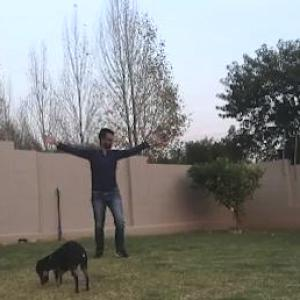takeoff: (29, 123, 158, 270)
